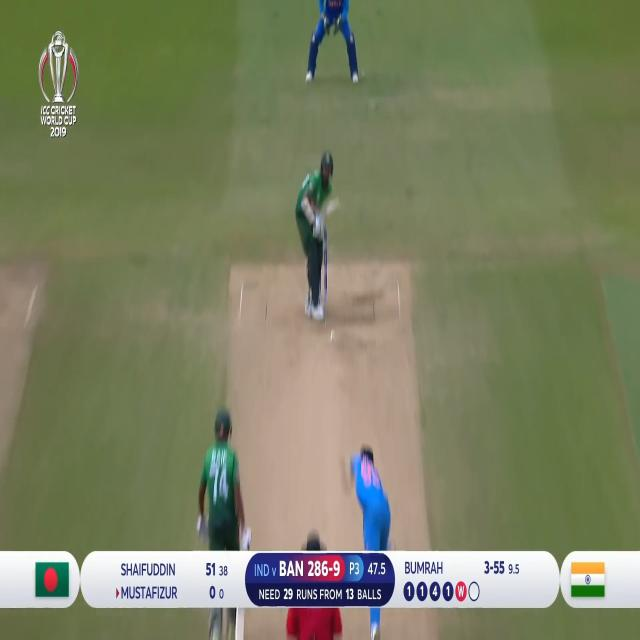Cricket ball: (330, 330, 336, 343)
